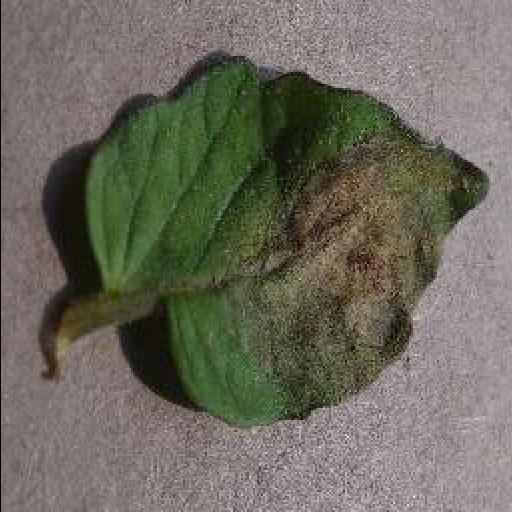disease_tomato: (84, 55, 498, 429)
